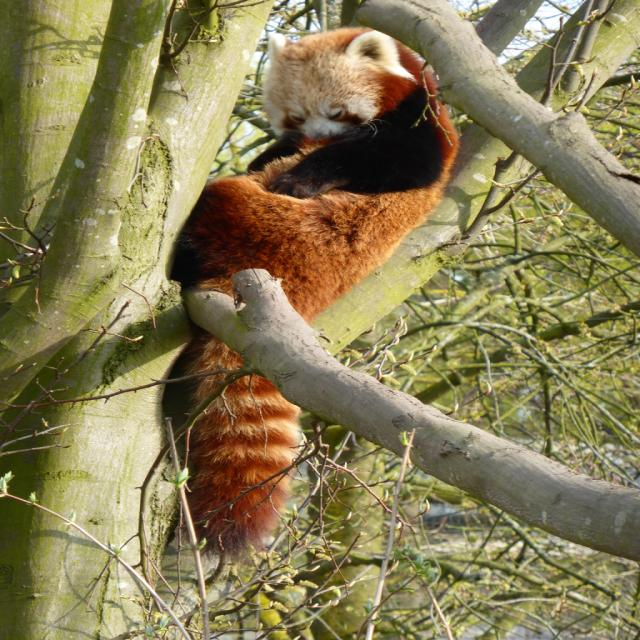Bear: (172, 25, 463, 570)
